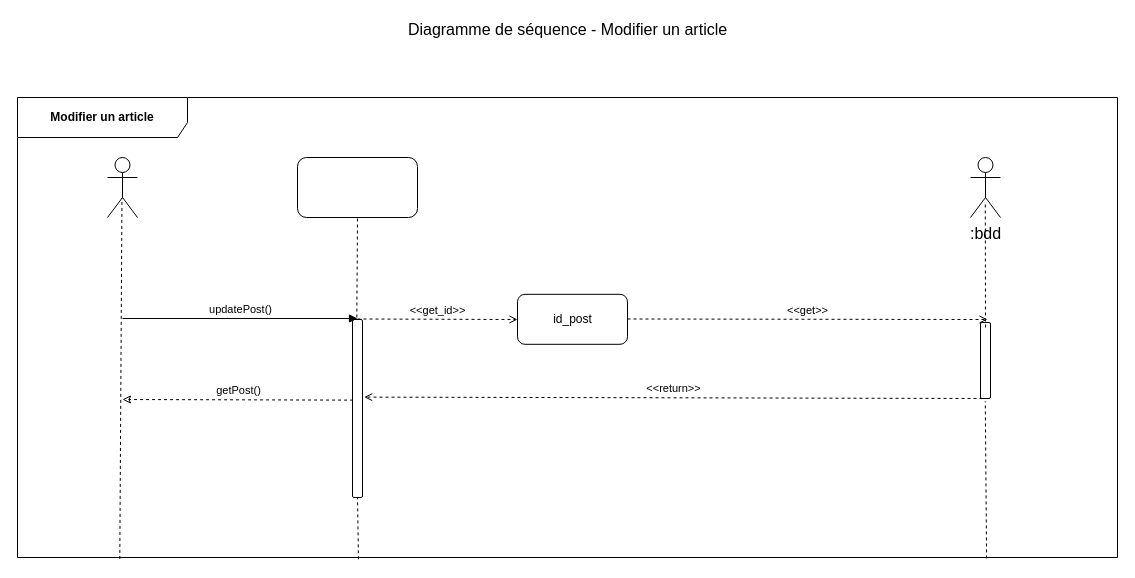
This 1135x578 diagram has some shape labels left out. The centre of each missing label's shape, as x and y in pixels:
":system" belongs at pixel 357 187.
":user" belongs at pixel 122 187.
